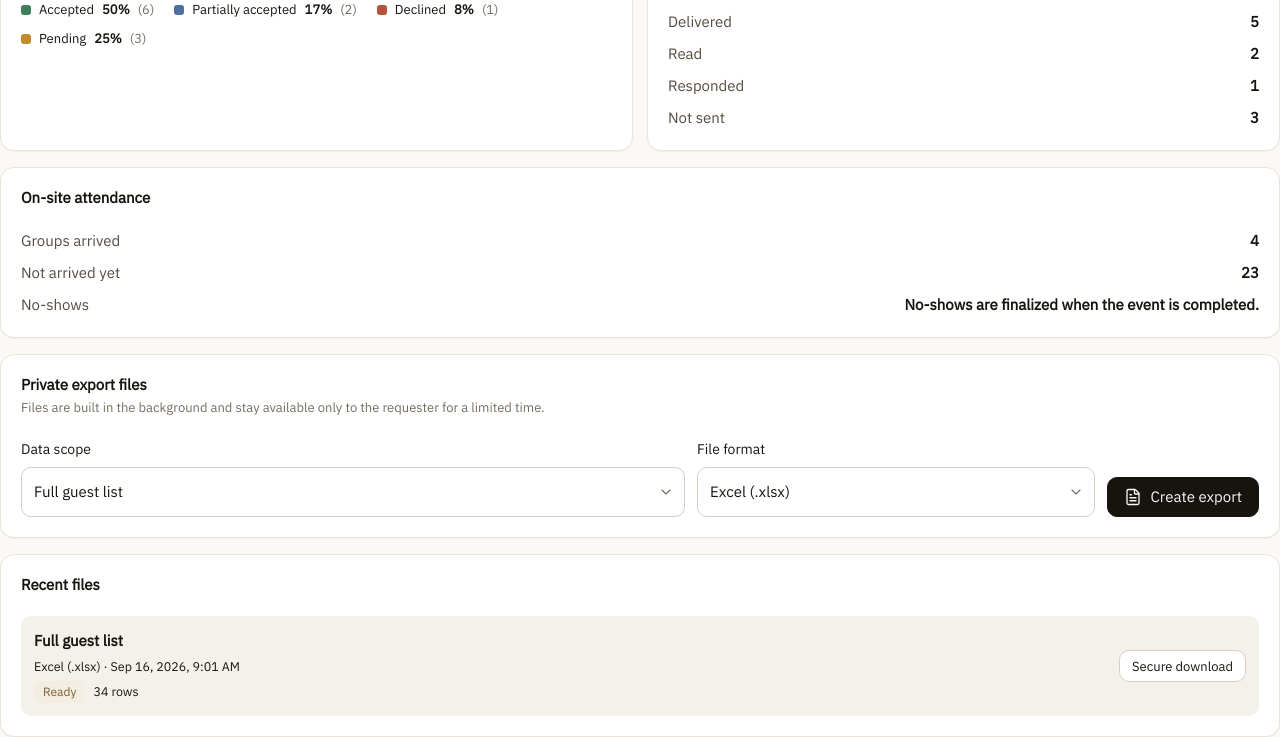
it: event reports › explains an expired or failed download instead of failing silently
(page scrolled)
Click the button "Secure download" at (1182, 666), box top-left (1119, 650), bottom-right (1246, 682)
(page scrolled)
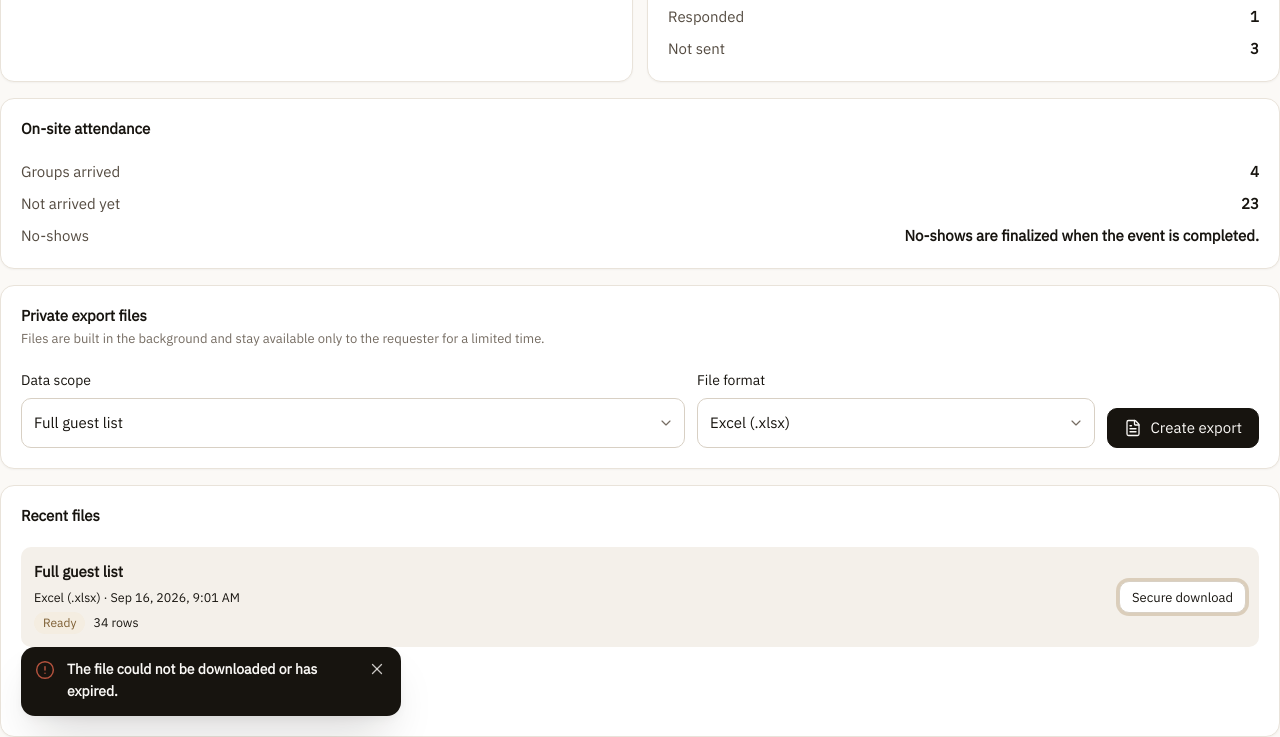
Expected: the text "The file could not be downloaded or has expired." is shown, top-left (67, 659), bottom-right (355, 704)
